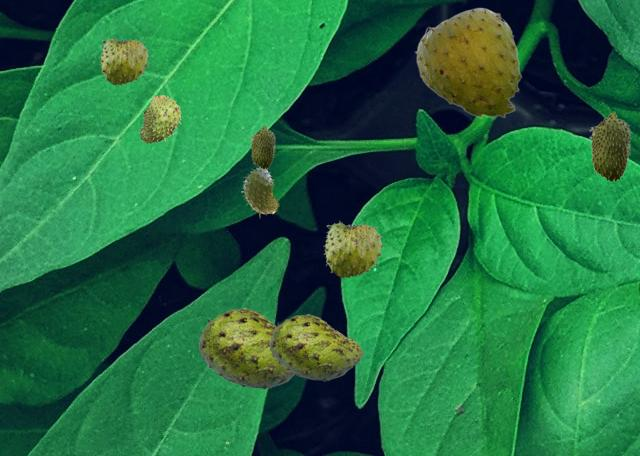guyabano: (414, 7, 521, 119), (198, 308, 294, 388), (269, 314, 362, 380), (323, 220, 383, 277), (589, 111, 631, 181), (99, 36, 149, 84), (138, 95, 180, 143), (241, 166, 278, 217), (250, 125, 275, 168)
